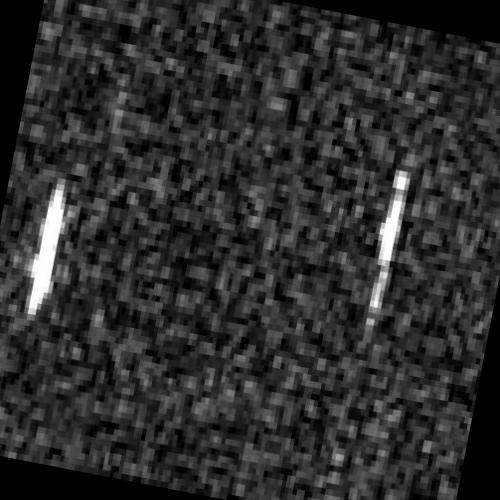ship: (26, 176, 68, 320), (369, 170, 410, 311)
